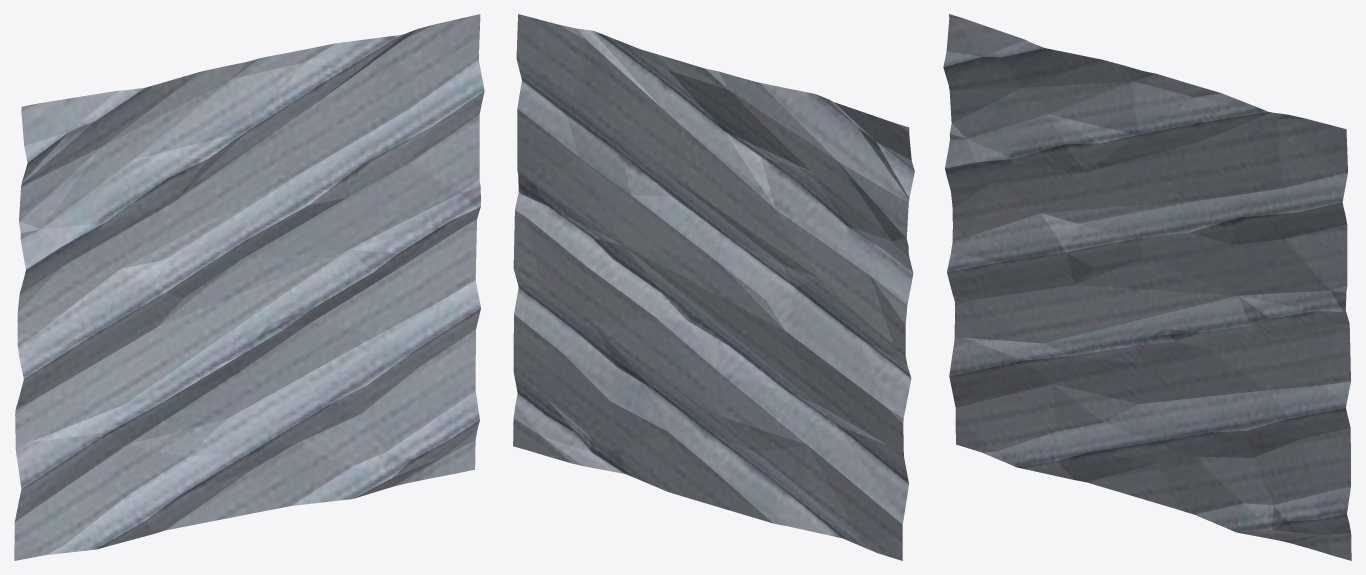
File: Tile_+004_+007_L23_003210.obj
The picture shows the model from 3 angles, left to right: view 1: azimuth 30°, elevation 25°; view 2: azimuth 150°, elevation 25°; view 3: azimuth 330°, elevation 25°; orthographic projection. The views are drawn at different scales.
Bounding box in the file's own units: 1.91 × 1.91 × 0.2344.
Materials: 1 (1 with a texture image).
